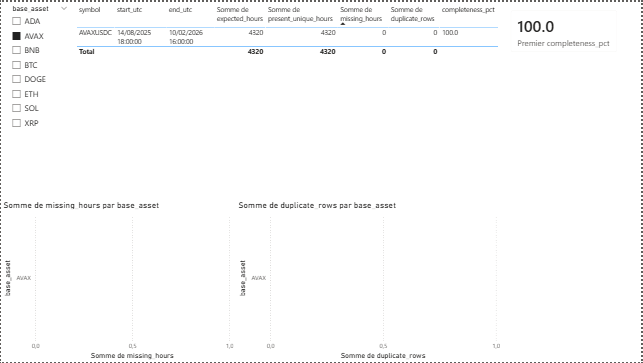

This screenshot's page, from the dashboard's own definition file:
{"tool":"powerbi","page":{"name":"Qualité","canvas":[1280,720],"ordinal":2},"visuals":[{"type":"slicer","fields":{"Values":["dim_symbol.base_asset"]},"box":[10,0,135,280],"z":0},{"type":"tableEx","fields":{"Values":["data_quality.symbol","data_quality.start_utc","data_quality.end_utc","Sum(data_quality.expected_hours)","Sum(data_quality.present_unique_hours)","Sum(data_quality.missing_hours)","Sum(data_quality.duplicate_rows)","data_quality.completeness_pct"]},"box":[145,0,857.5,385],"z":1000},{"type":"cardVisual","fields":{"Data":["Min(data_quality.completeness_pct)"]},"box":[1002.5,0,247.5,117.5],"z":2000},{"type":"clusteredBarChart","fields":{"Category":["dim_symbol.base_asset"],"Y":["Sum(data_quality.missing_hours)"]},"box":[0,395,470,325],"z":2001},{"type":"clusteredBarChart","fields":{"Category":["dim_symbol.base_asset"],"Y":["Sum(data_quality.duplicate_rows)"]},"box":[470,395,533,325],"z":2002}]}

Visuals, with their boxes in screenshot pixels (x1, y1, x2, y2), scaled from the page's 1280x720 canvas onto the 643x363 screenshot:
slicer - dim_symbol.base_asset: left=5, top=0, right=73, bottom=141
tableEx - data_quality.symbol x data_quality.start_utc: left=73, top=0, right=504, bottom=194
cardVisual - Min(data_quality.completeness_pct): left=504, top=0, right=628, bottom=59
clusteredBarChart - dim_symbol.base_asset x Sum(data_quality.missing_hours): left=0, top=199, right=236, bottom=362
clusteredBarChart - dim_symbol.base_asset x Sum(data_quality.duplicate_rows): left=236, top=199, right=504, bottom=362
